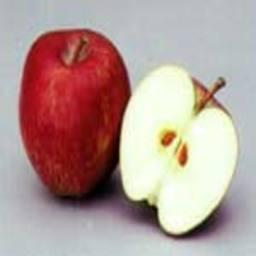apple: (114, 65, 240, 236), (15, 29, 133, 201)
